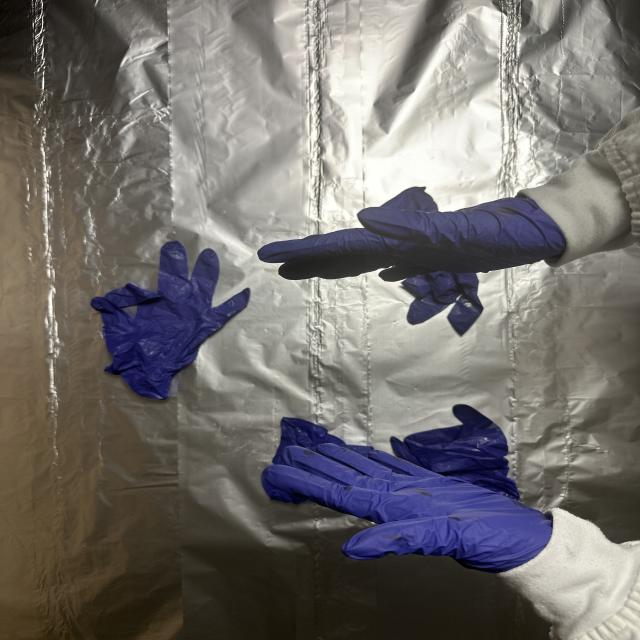gloves_contaminated: (262, 447, 552, 572), (259, 198, 565, 281)
